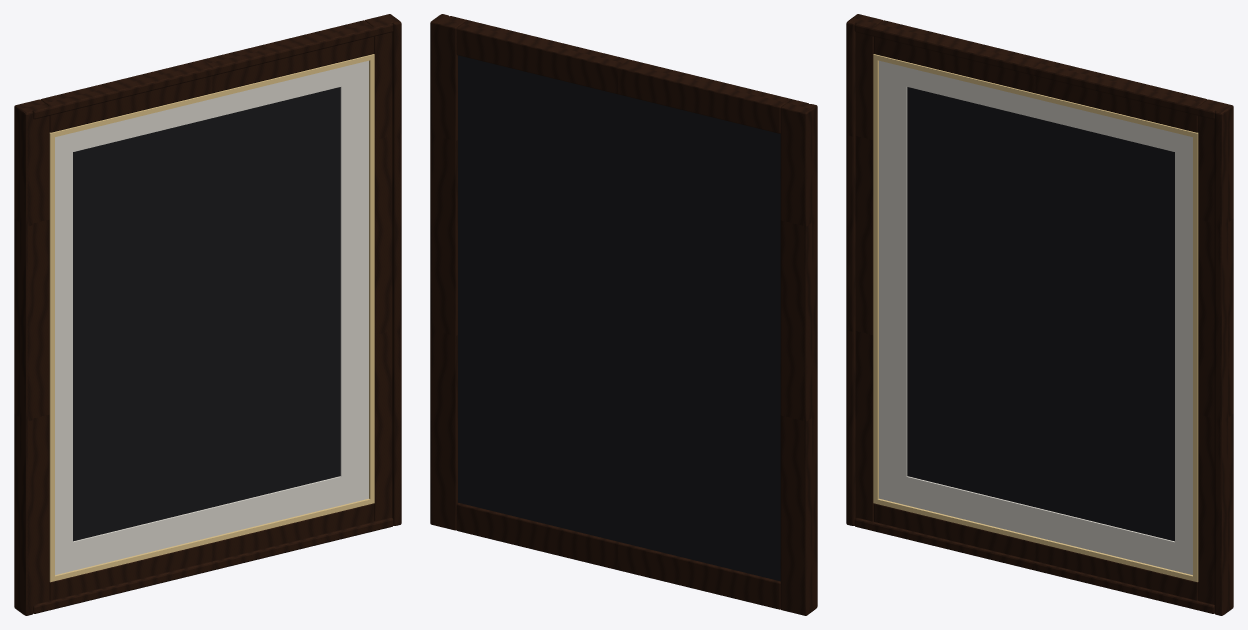
The model's file is poster_gallery.glb.
3 renders of one model, left to right at view 1: azimuth 30°, elevation 25°; view 2: azimuth 150°, elevation 25°; view 3: azimuth 330°, elevation 25°, orthographic.
Visible parts, largest first — view 1: backing.003, mat, rail_side_-1.002, rail_side_1.002, rail_top.002, rail_bottom.002, bead_side_-1, bead_side_1, bead_top, bead_bottom, fillet_right, fillet_left (+2 smaller); view 2: backing.003, rail_side_-1.002, rail_side_1.002, rail_top.002, rail_bottom.002, bead_side_-1, bead_top; view 3: backing.003, mat, rail_side_1.002, rail_side_-1.002, rail_top.002, rail_bottom.002, bead_side_1, bead_side_-1, bead_top, bead_bottom, fillet_left, fillet_right (+2 smaller).
Boxes of the visible parts, x1=… form: backing.003: x1=73, y1=87, x2=340, y2=541; mat: x1=55, y1=60, x2=368, y2=574; rail_side_-1.002: x1=14, y1=99, x2=49, y2=614; rail_side_1.002: x1=365, y1=14, x2=399, y2=521; rail_top.002: x1=40, y1=20, x2=373, y2=132; rail_bottom.002: x1=49, y1=503, x2=373, y2=600; bead_side_-1: x1=23, y1=110, x2=33, y2=615; bead_side_1: x1=392, y1=20, x2=401, y2=525; bead_top: x1=32, y1=22, x2=393, y2=119; bead_bottom: x1=33, y1=518, x2=393, y2=613; fillet_right: x1=369, y1=54, x2=374, y2=503; fillet_left: x1=49, y1=132, x2=54, y2=582; backing.003: x1=458, y1=55, x2=780, y2=581; rail_side_-1.002: x1=780, y1=100, x2=815, y2=615; rail_side_1.002: x1=430, y1=15, x2=464, y2=530; rail_top.002: x1=456, y1=21, x2=788, y2=133; rail_bottom.002: x1=456, y1=503, x2=780, y2=609; bead_side_-1: x1=809, y1=104, x2=817, y2=608; bead_top: x1=449, y1=16, x2=808, y2=104; backing.003: x1=907, y1=87, x2=1174, y2=541; mat: x1=879, y1=60, x2=1192, y2=574; rail_side_1.002: x1=1198, y1=99, x2=1233, y2=614; rail_side_-1.002: x1=848, y1=14, x2=882, y2=521; rail_top.002: x1=874, y1=20, x2=1207, y2=132; rail_bottom.002: x1=874, y1=503, x2=1198, y2=600; bead_side_1: x1=1214, y1=110, x2=1224, y2=615; bead_side_-1: x1=846, y1=20, x2=855, y2=525; bead_top: x1=854, y1=22, x2=1215, y2=119; bead_bottom: x1=854, y1=518, x2=1214, y2=613; fillet_left: x1=873, y1=54, x2=878, y2=503; fillet_right: x1=1193, y1=132, x2=1198, y2=581.
Bounding box in the file's own units: 1.01 × 1.29 × 0.055.
4 materials, 1 textured.
